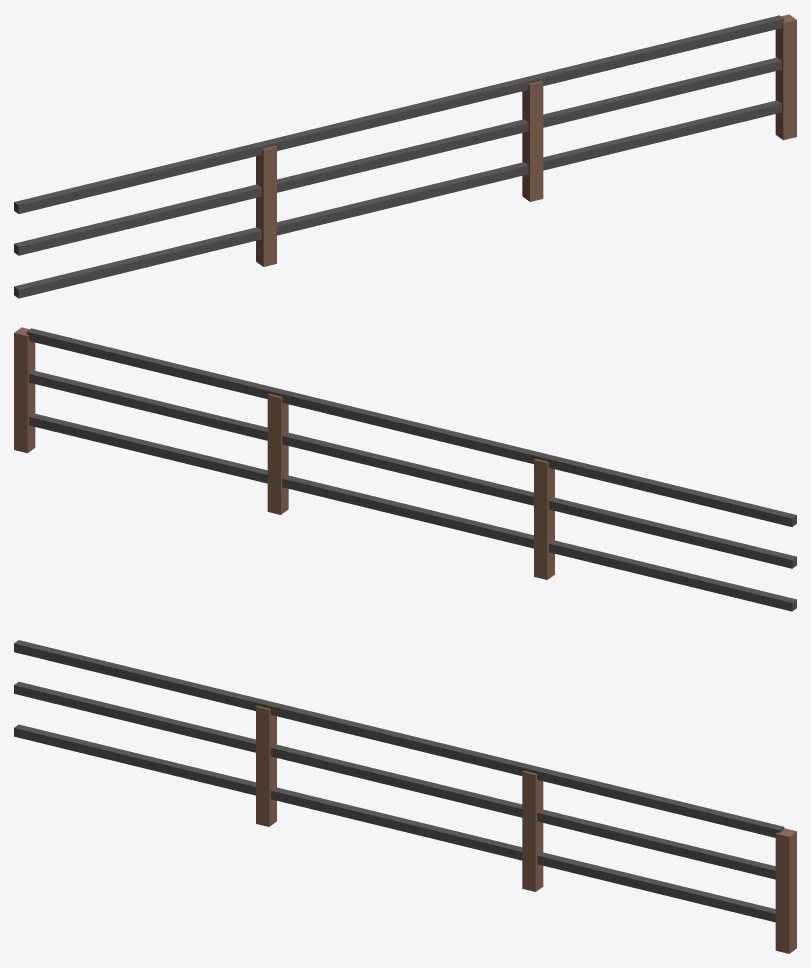
The model's file is Fence01.fbx.
The picture shows the model from 3 angles, top to bottom: view 1: azimuth 30°, elevation 25°; view 2: azimuth 150°, elevation 25°; view 3: azimuth 330°, elevation 25°; orthographic projection.
Parts seen in each view (by area): view 1: Fence01; view 2: Fence01; view 3: Fence01.
Boxes of the visible parts, x1,y1,x2,y2 form: Fence01: [14, 14, 796, 298]; Fence01: [14, 327, 796, 611]; Fence01: [14, 640, 796, 953].
Size of the model in its own units: 1580 by 233 by 27.03.
